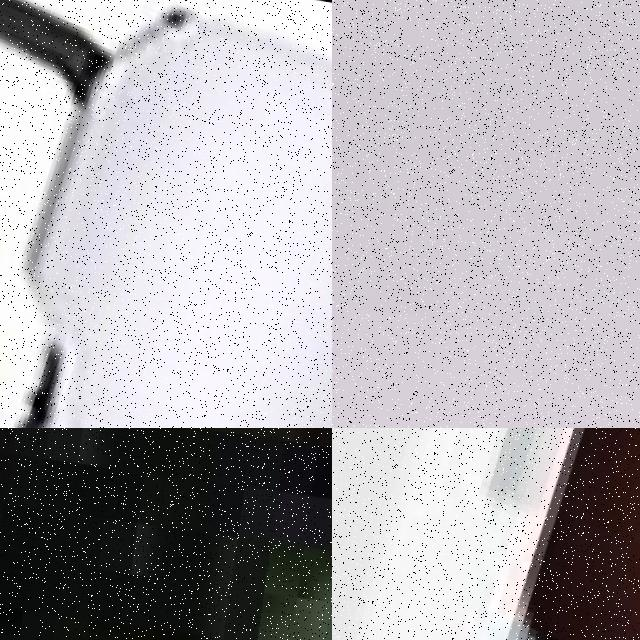drone: (0, 0, 332, 428), (332, 428, 640, 640)
